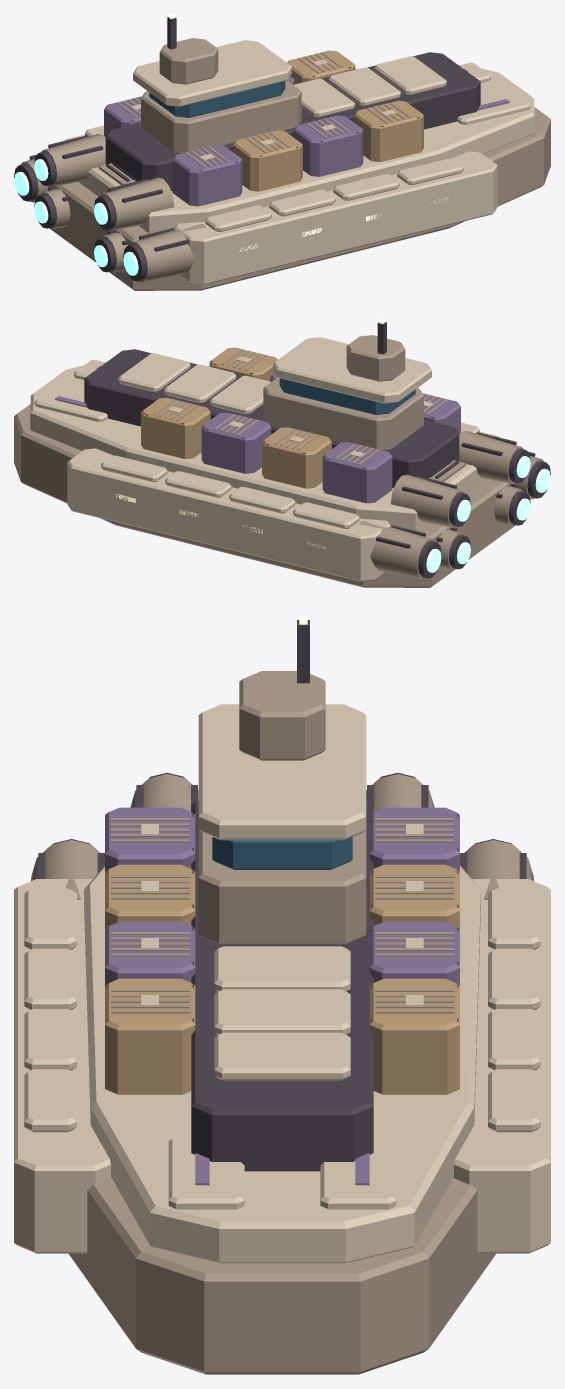
The model's file is galleon.glb.
3 renders of one model, top to bottom at view 1: azimuth 30°, elevation 25°; view 2: azimuth 150°, elevation 25°; view 3: azimuth 270°, elevation 25°, orthographic. The views are drawn at different scales.
Parts seen in each view (by area): view 1: galleon-hull, galleon-armor, galleon-frame, galleon-accent, galleon-cargo, galleon-glass, galleon-engine; view 2: galleon-hull, galleon-armor, galleon-frame, galleon-accent, galleon-cargo, galleon-glass, galleon-engine; view 3: galleon-hull, galleon-armor, galleon-cargo, galleon-frame, galleon-accent, galleon-glass.
Boxes of the visible parts, <box> form: galleon-hull: <box>65,40,534,284</box>; galleon-armor: <box>21,38,550,290</box>; galleon-frame: <box>14,17,480,281</box>; galleon-accent: <box>104,69,509,206</box>; galleon-cargo: <box>233,50,423,191</box>; galleon-glass: <box>149,81,285,117</box>; galleon-engine: <box>14,159,138,275</box>; galleon-hull: <box>30,337,499,581</box>; galleon-armor: <box>14,335,543,587</box>; galleon-frame: <box>84,322,550,578</box>; galleon-accent: <box>55,366,460,503</box>; galleon-cargo: <box>141,347,331,488</box>; galleon-glass: <box>279,378,415,414</box>; galleon-engine: <box>426,456,550,572</box>; galleon-hull: <box>14,704,550,1263</box>; galleon-armor: <box>31,671,533,1374</box>; galleon-cargo: <box>105,864,459,1094</box>; galleon-frame: <box>38,620,526,1171</box>; galleon-accent: <box>105,807,459,1185</box>; galleon-glass: <box>212,837,352,869</box>.
Bounding box in the file's own units: 7.85 × 3.59 × 4.1.
